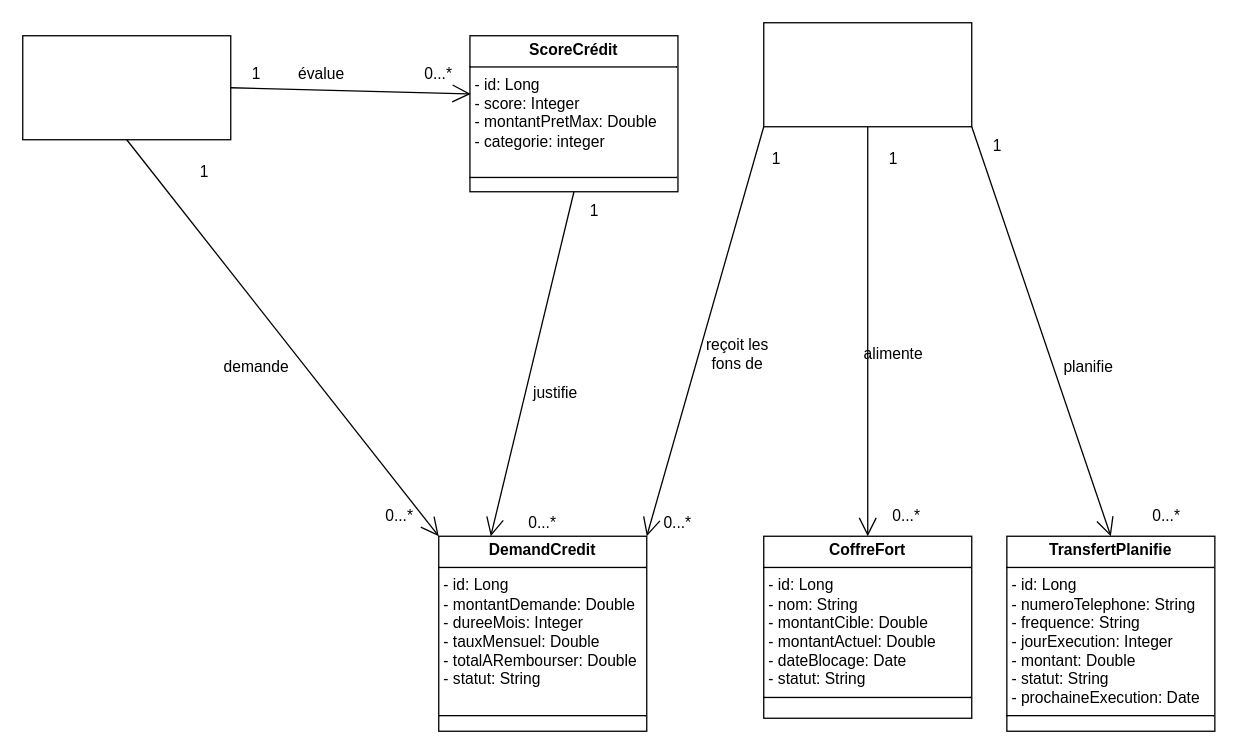
This 1238x754 diagram has some shape labels left out. The centre of each missing label's shape, as x and y in pixels:
Client - id: Long - numeroTelephone: String: the point at 126,87
Portefeuille - id: Long - solde: Double: the point at 867,74
